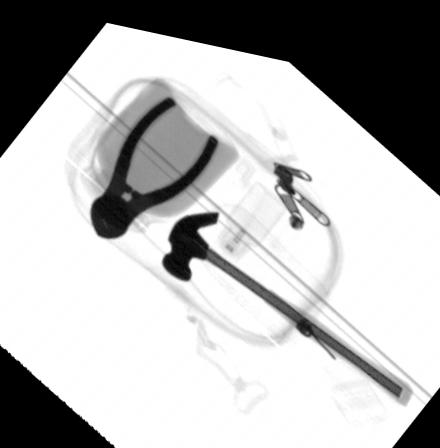Hammer: (161, 203, 412, 389)
Pliers: (89, 89, 219, 236)
